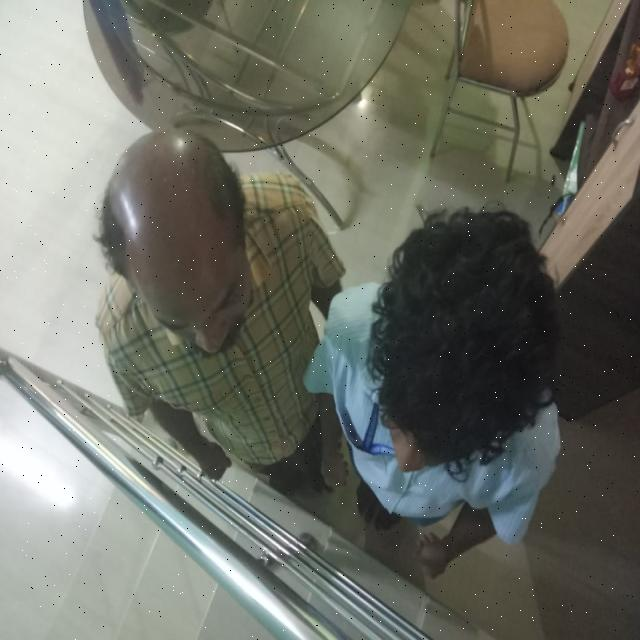humans: (302, 185, 577, 553), (96, 119, 334, 495)
